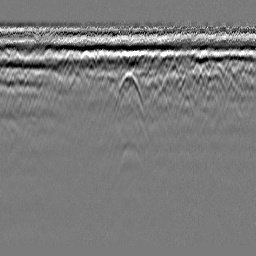cavity: (111, 68, 144, 115)
